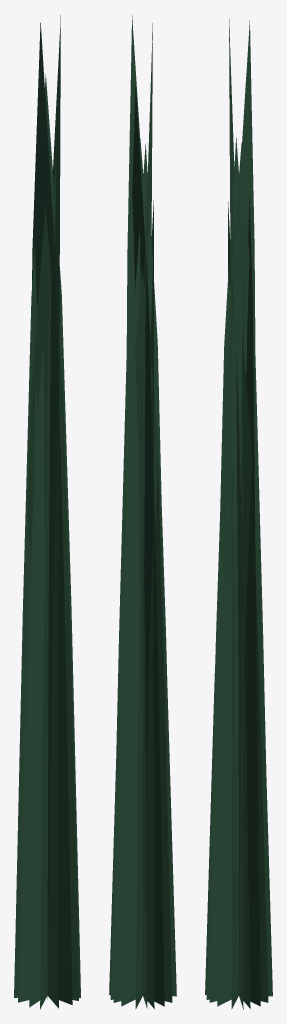
Rendered from jade_grass.glb.
3 views of the same model, side by side, from view 1: azimuth 30°, elevation 25°; view 2: azimuth 150°, elevation 25°; view 3: azimuth 330°, elevation 25° (orthographic).
Parts seen in each view (by area): view 1: JadeGrass; view 2: JadeGrass; view 3: JadeGrass.
Boxes of the visible parts, bbox=[...] form: JadeGrass: bbox=[14, 15, 80, 1009]; JadeGrass: bbox=[109, 15, 176, 1009]; JadeGrass: bbox=[205, 19, 272, 1009].
Bounding box in the file's own units: 0.022 × 0.35 × 0.0217.
